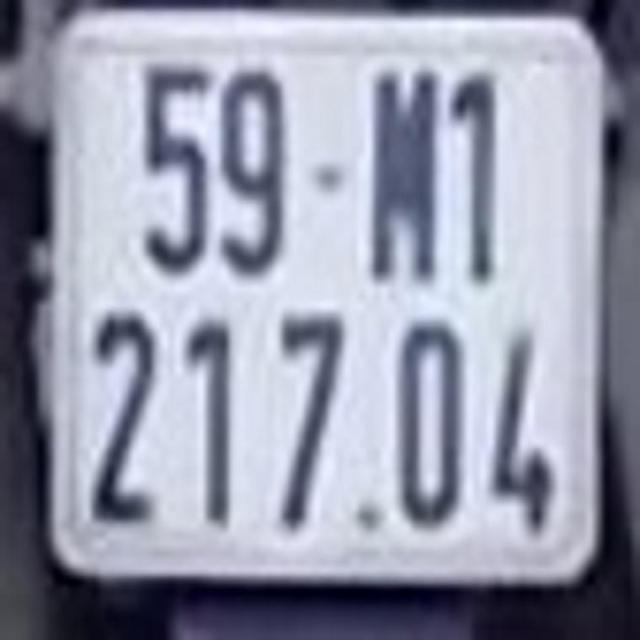0: (395, 311, 464, 524)
1: (178, 310, 241, 524), (452, 65, 504, 281)
2: (88, 300, 156, 522)
4: (486, 319, 557, 540)
5: (140, 56, 208, 274)
7: (270, 302, 348, 532)
9: (220, 63, 288, 270)
M: (365, 64, 438, 284)
